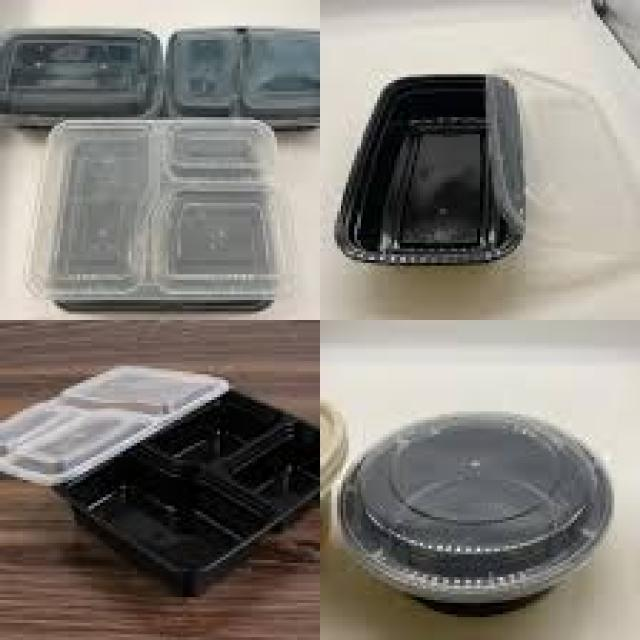disposable: (50, 364, 342, 597), (17, 109, 312, 324), (350, 400, 616, 620), (331, 61, 540, 279)
